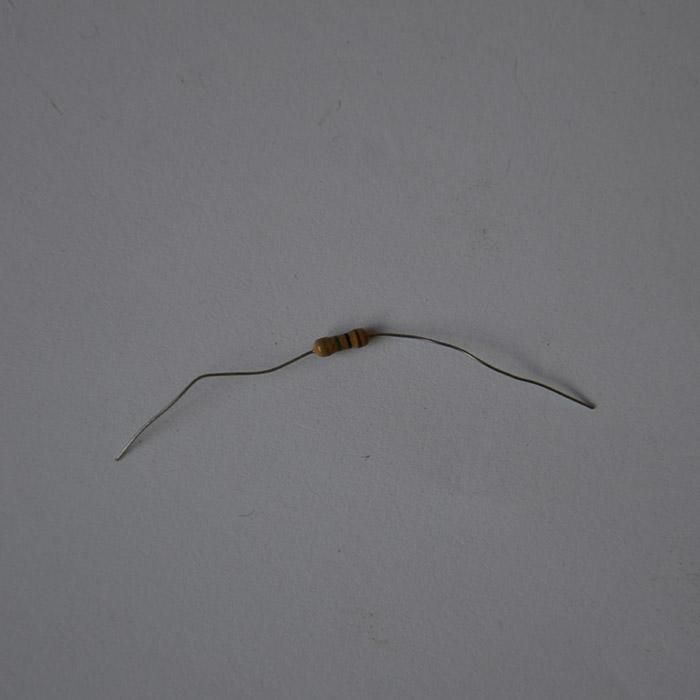resistor: (312, 327, 369, 357)
